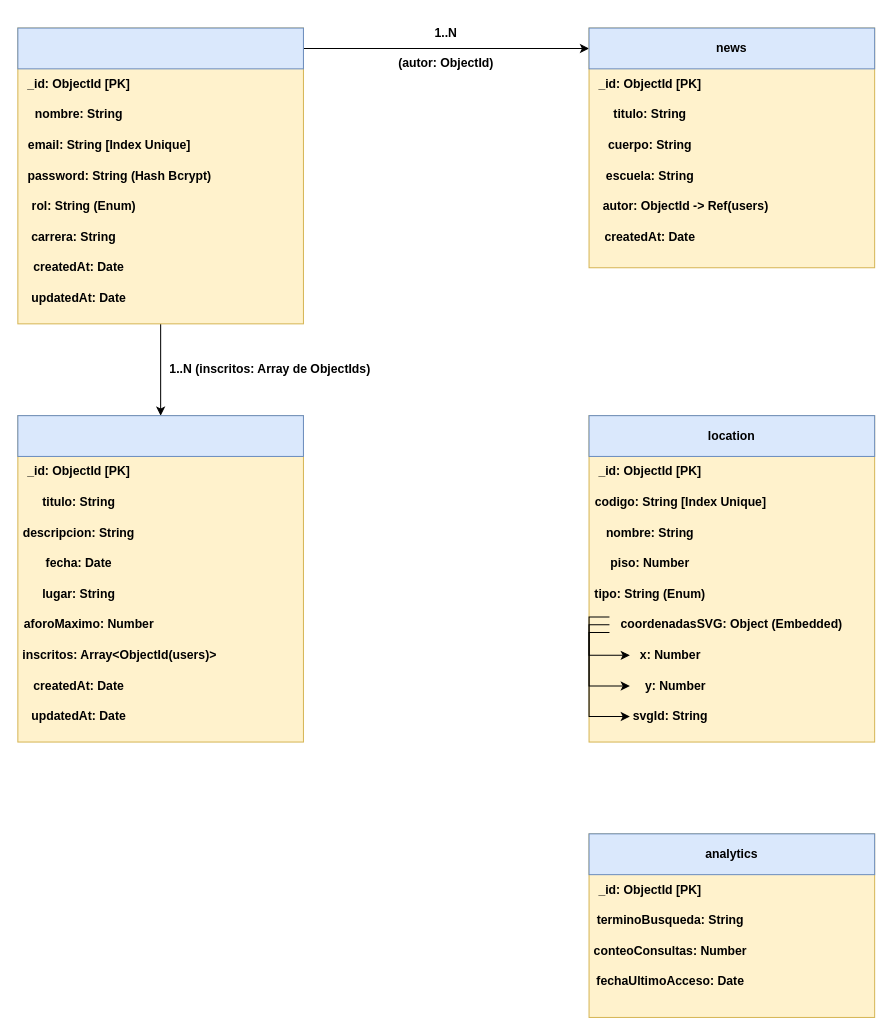
The diagram is 893 pixels wide and 1035 high, and some of its shapes have lost their labels. The box of each missing label's shape, as (x1, y1, x2, y2) in pixels:
events: (17, 415, 303, 456)
Users: (17, 27, 303, 69)
